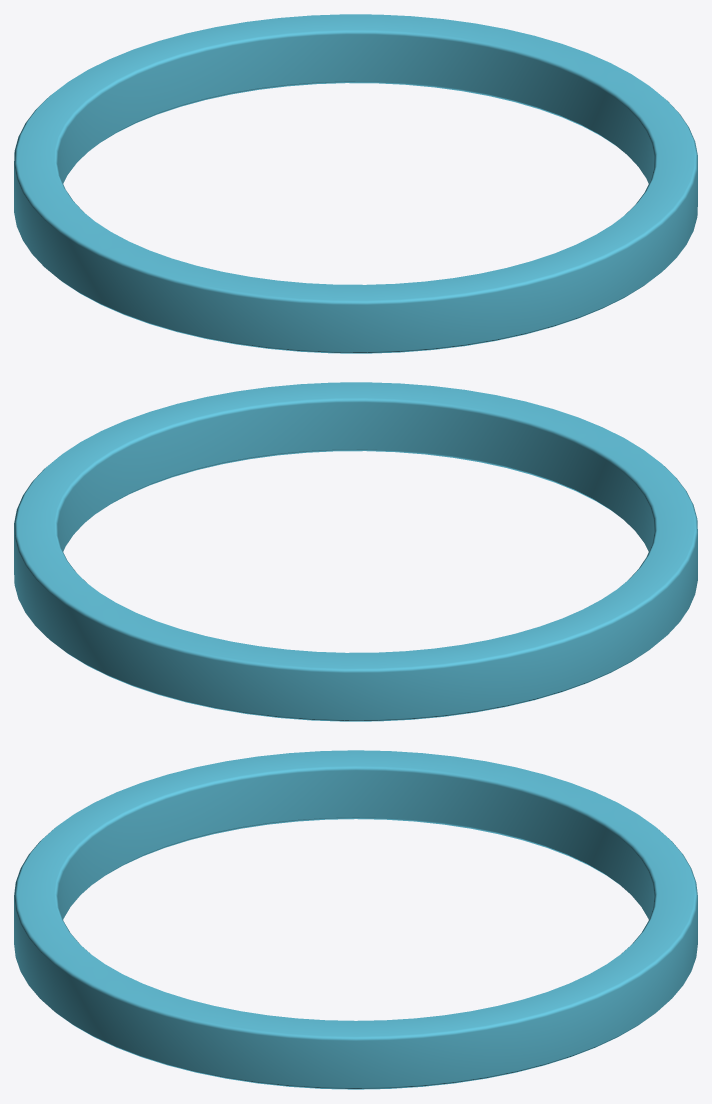
3 renders of one model, top to bottom at view 1: azimuth 30°, elevation 25°; view 2: azimuth 150°, elevation 25°; view 3: azimuth 270°, elevation 25°, orthographic.
Parts seen in each view (by area): view 1: seal_body; view 2: seal_body; view 3: seal_body.
Part boxes in pixels (x1=…): seal_body: x1=14, y1=14, x2=697, y2=353; seal_body: x1=14, y1=382, x2=697, y2=721; seal_body: x1=14, y1=750, x2=697, y2=1089.
Size of the model in its own units: 0.078 by 0.0067 by 0.078.
